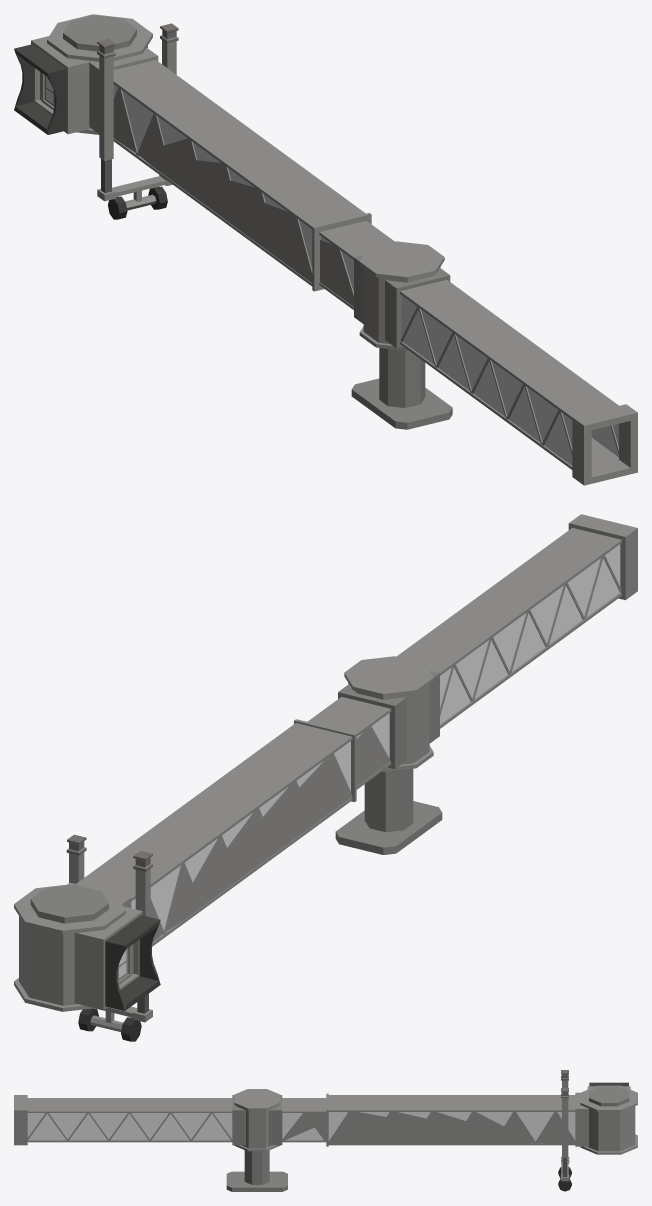
File: SM_Bldg_City_Airport_Jetway_Bridge.fbx
The picture shows the model from 3 angles, top to bottom: view 1: azimuth 30°, elevation 25°; view 2: azimuth 150°, elevation 25°; view 3: azimuth 270°, elevation 25°; orthographic projection. The views are drawn at different scales.
Visible parts, largest first — view 1: SM_Bldg_City_Airport_Jetway_Bridge_End, SM_Bldg_City_Airport_Jetway_Bridge; view 2: SM_Bldg_City_Airport_Jetway_Bridge_End, SM_Bldg_City_Airport_Jetway_Bridge; view 3: SM_Bldg_City_Airport_Jetway_Bridge_End, SM_Bldg_City_Airport_Jetway_Bridge.
Boxes of the visible parts, x1,y1,x2,y2 form: SM_Bldg_City_Airport_Jetway_Bridge_End: [14, 14, 394, 323]; SM_Bldg_City_Airport_Jetway_Bridge: [351, 241, 637, 485]; SM_Bldg_City_Airport_Jetway_Bridge_End: [14, 684, 406, 1041]; SM_Bldg_City_Airport_Jetway_Bridge: [335, 514, 637, 854]; SM_Bldg_City_Airport_Jetway_Bridge_End: [268, 1070, 637, 1191]; SM_Bldg_City_Airport_Jetway_Bridge: [14, 1089, 287, 1191].
Size of the model in its own units: 6.64 by 10.15 by 55.14.
